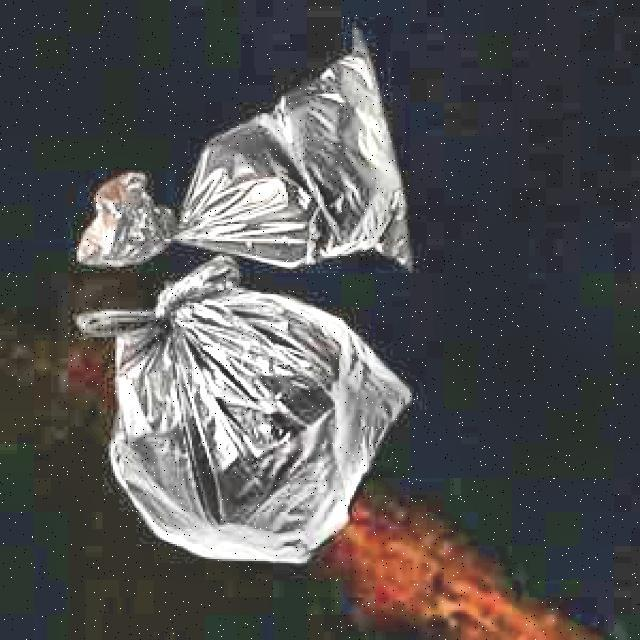Trashbag: (62, 300, 424, 569), (70, 18, 419, 280)
